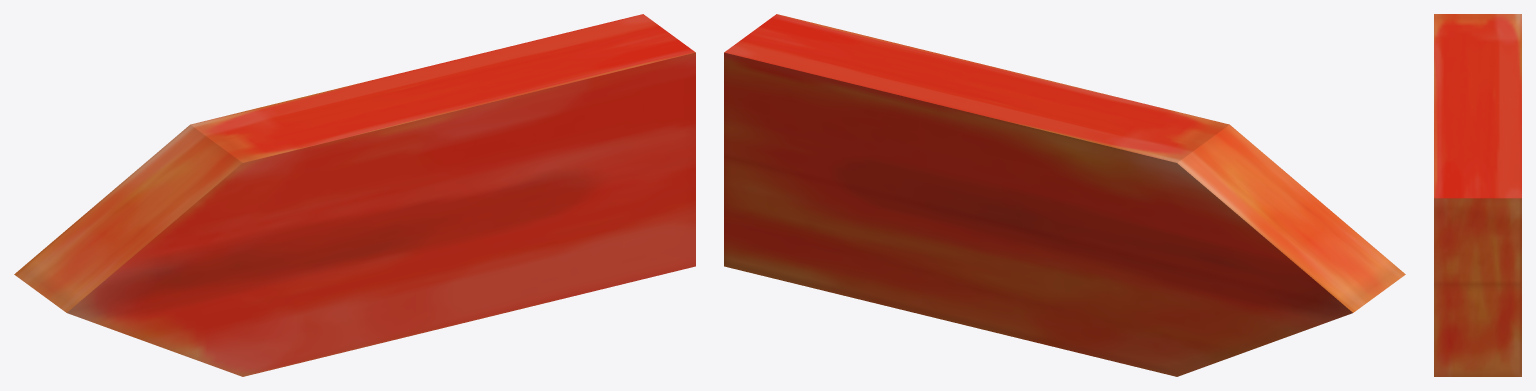
File: score_marker.obj
3 views of the same model, side by side, from view 1: azimuth 30°, elevation 25°; view 2: azimuth 150°, elevation 25°; view 3: azimuth 270°, elevation 25° (orthographic). The views are drawn at different scales.
Parts seen in each view (by area): view 1: Cube; view 2: Cube; view 3: Cube.
Boxes of the visible parts, x1,y1,x2,y2 form: Cube: [14, 14, 695, 376]; Cube: [724, 14, 1405, 376]; Cube: [1434, 14, 1521, 376].
Size of the model in its own units: 11.69 by 3.8 by 1.69.
Materials: 1 (1 with a texture image).
